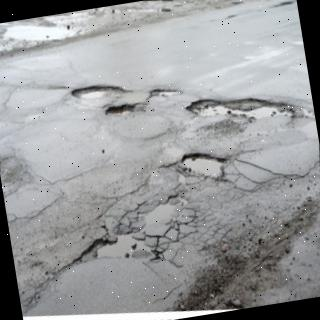pothole: (187, 99, 296, 118), (79, 236, 152, 262), (182, 153, 230, 182), (73, 87, 124, 99), (149, 205, 175, 224), (148, 88, 183, 97), (107, 105, 135, 116)
